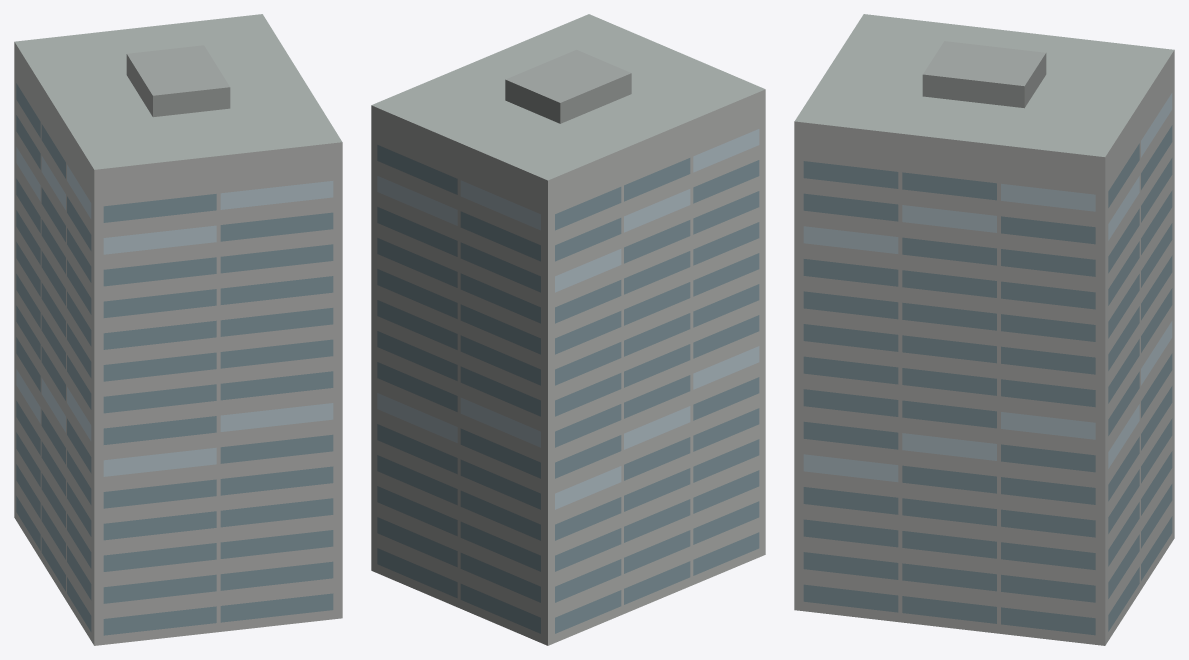
Rendered from fallback-olympic-park-foreon-206.glb.
3 views of the same model, side by side, from view 1: azimuth 30°, elevation 25°; view 2: azimuth 150°, elevation 25°; view 3: azimuth 270°, elevation 25° (orthographic). The views are drawn at different scales.
Visible parts, largest first — view 1: fallback-olympic-park-foreon-206; view 2: fallback-olympic-park-foreon-206; view 3: fallback-olympic-park-foreon-206.
Boxes of the visible parts, x1,y1,x2,y2 form: fallback-olympic-park-foreon-206: [14, 14, 342, 645]; fallback-olympic-park-foreon-206: [371, 14, 765, 645]; fallback-olympic-park-foreon-206: [794, 14, 1174, 645].
Size of the model in its own units: 28.76 by 47.81 by 32.24.
